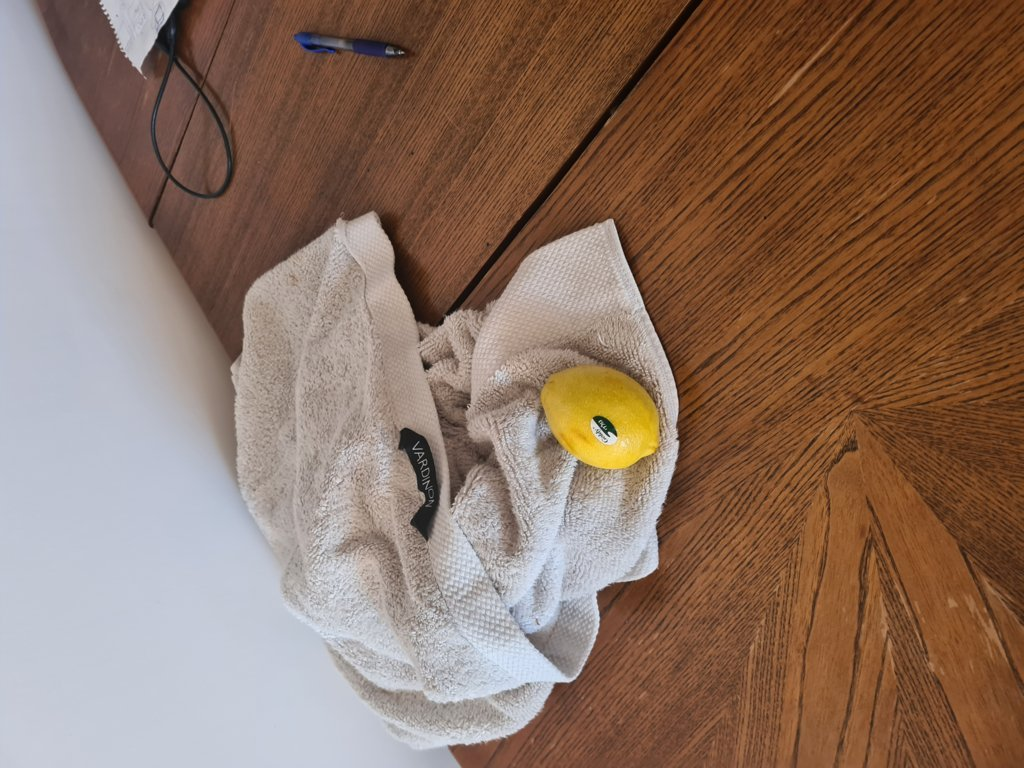lemon: (542, 364, 665, 471)
